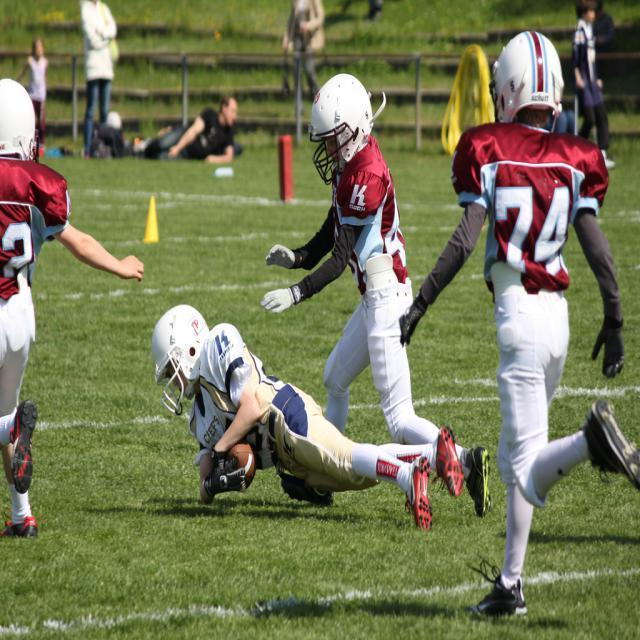ball: (214, 436, 258, 490)
